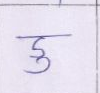u_matra: (26, 57, 52, 75)
